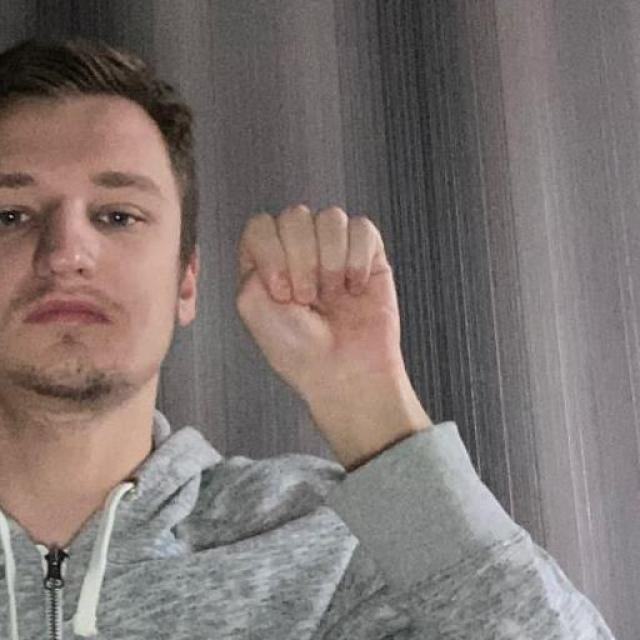hand: (232, 201, 432, 470)
